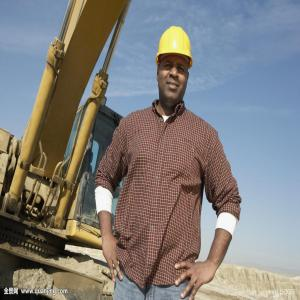yellow: (154, 27, 195, 106)
